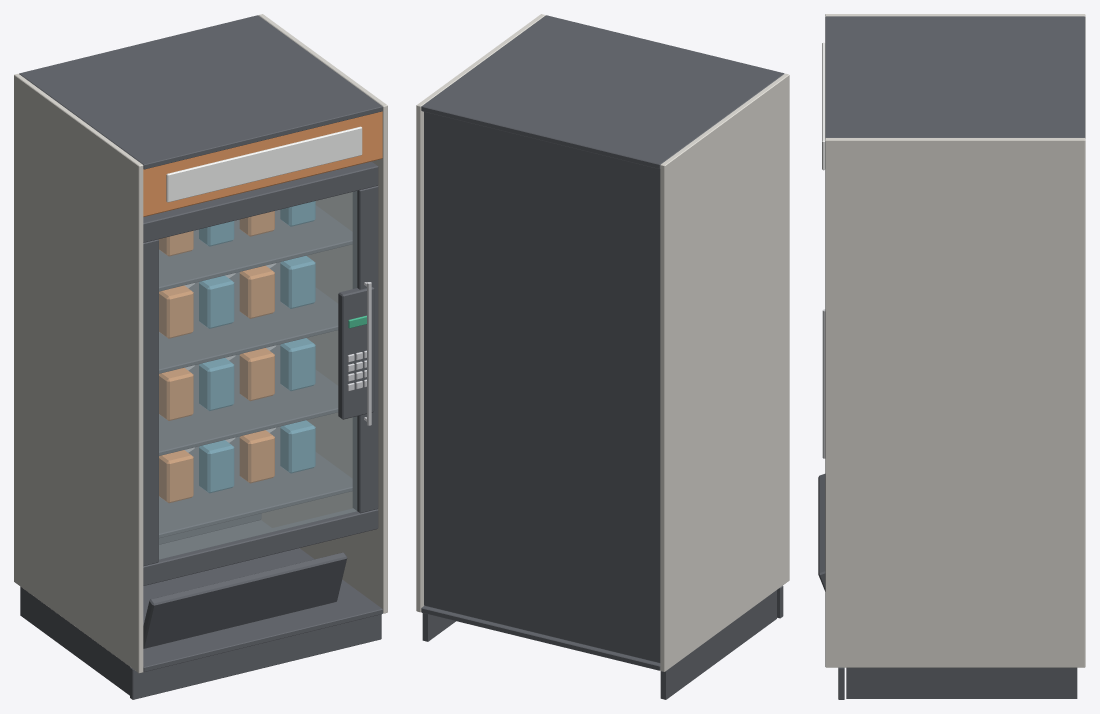
Rendered from university-lecture-hall-and-campus-vending-machine-a9c90daf__34767.glb.
3 views of the same model, side by side, from view 1: azimuth 30°, elevation 25°; view 2: azimuth 150°, elevation 25°; view 3: azimuth 270°, elevation 25° (orthographic). The views are drawn at different scales.
Parts seen in each view (by area): view 1: vending-machine, vend-door/glass, vend-door/dark, vend-door/metal; view 2: vending-machine; view 3: vending-machine, vend-door/metal.
Boxes of the visible parts, x1=… form: vending-machine: x1=14, y1=14, x2=387, y2=699; vend-door/glass: x1=159, y1=191, x2=356, y2=559; vend-door/dark: x1=143, y1=161, x2=378, y2=585; vend-door/metal: x1=347, y1=282, x2=371, y2=425; vending-machine: x1=416, y1=14, x2=789, y2=699; vending-machine: x1=818, y1=14, x2=1085, y2=699; vend-door/metal: x1=822, y1=309, x2=825, y2=458.
Bounding box in the file's own units: 0.92 × 1.9 × 0.8209.
